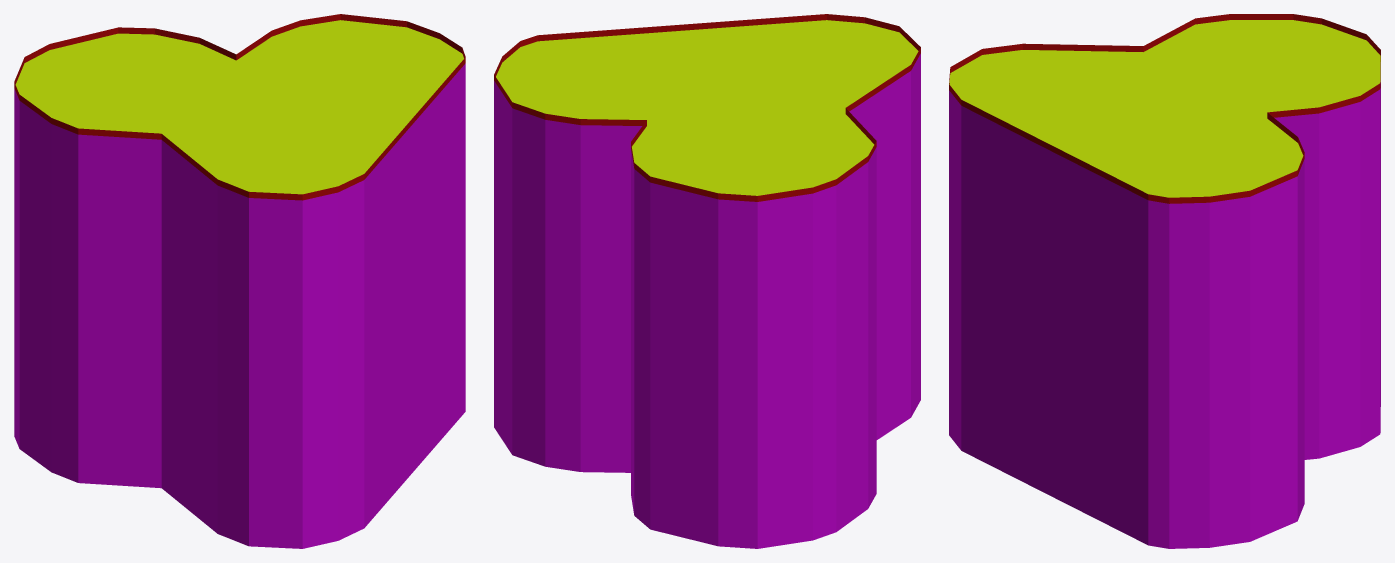
The picture shows the model from 3 angles, left to right: view 1: azimuth 30°, elevation 25°; view 2: azimuth 150°, elevation 25°; view 3: azimuth 270°, elevation 25°; orthographic projection.
Parts seen in each view (by area): view 1: sc_55; view 2: sc_55; view 3: sc_55.
Boxes of the visible parts, box(x1,y1,x2,y2) form: sc_55: box(14, 14, 465, 548); sc_55: box(494, 14, 920, 548); sc_55: box(949, 14, 1380, 548).
Bounding box in the file's own units: 22.71 × 20.24 × 22.55.
